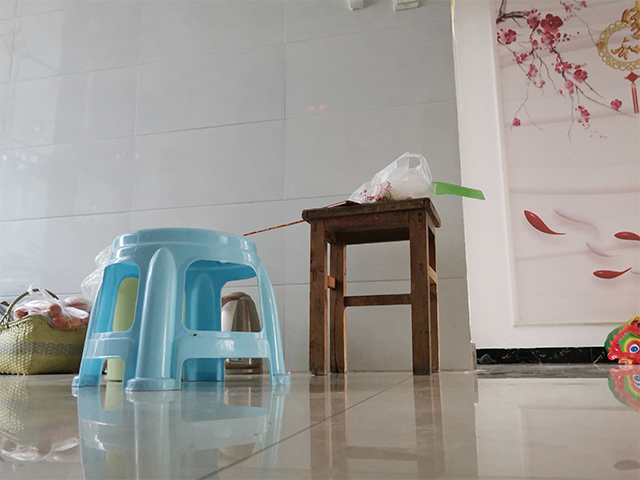stool: (68, 225, 291, 393), (301, 196, 444, 378)
